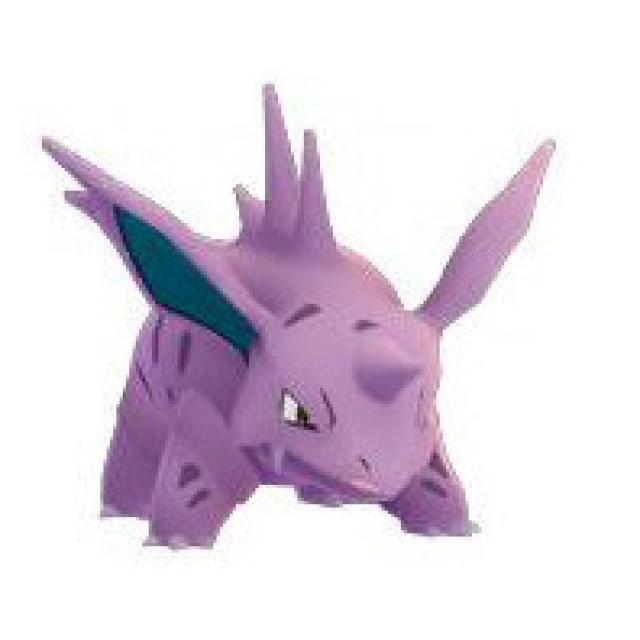Nidorino: (64, 131, 478, 545)
